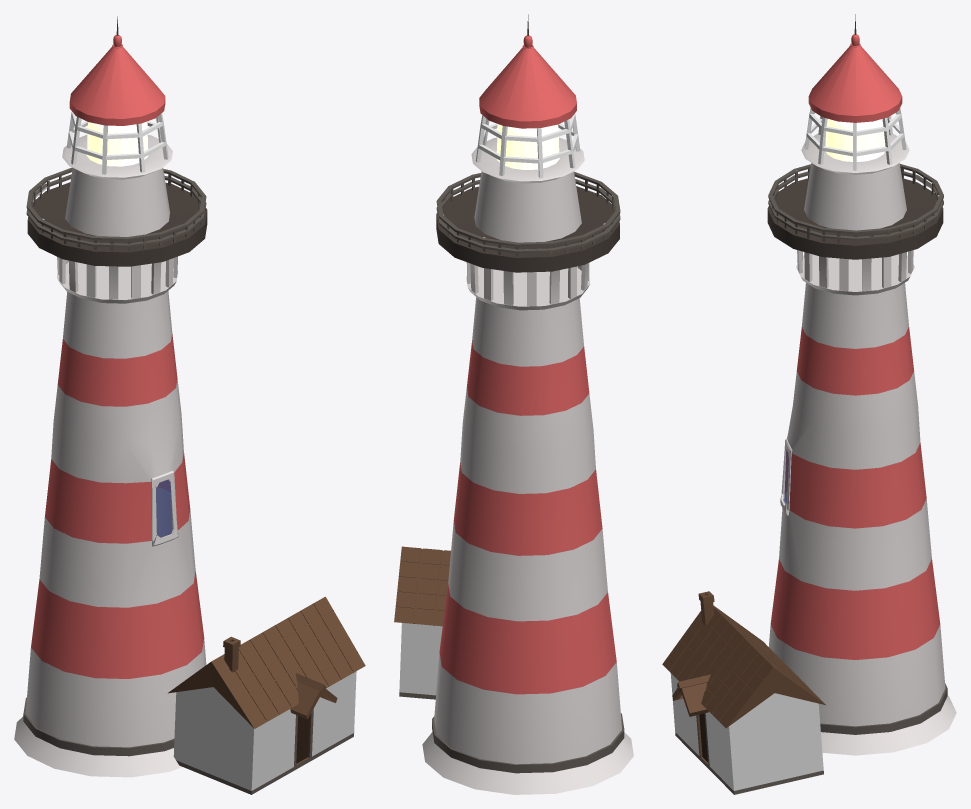
Rendered from lighthouse.glb.
3 views of the same model, side by side, from view 1: azimuth 30°, elevation 25°; view 2: azimuth 150°, elevation 25°; view 3: azimuth 270°, elevation 25° (orthographic). The views are drawn at different scales.
Visible parts, largest first — view 1: Circle_Material.002_0, Circle_Material.003_0, Cube_Material.008_0, Cube_Material_0, Circle_Material.004_0, Circle_Material.005_0, Circle.002__0, Circle.001_Light_0, Circle_Material.001_0; view 2: Circle_Material.002_0, Circle_Material.003_0, Circle_Material.004_0, Circle_Material.005_0, Cube_Material.008_0, Cube_Material_0, Circle.002__0, Circle.001_Light_0; view 3: Circle_Material.002_0, Circle_Material.003_0, Cube_Material.008_0, Cube_Material_0, Circle_Material.004_0, Circle_Material.005_0, Circle.002__0, Circle.001_Light_0.
Part boxes in pixels (x1=…): Circle_Material.002_0: x1=14, y1=135, x2=206, y2=777; Circle_Material.003_0: x1=31, y1=35, x2=204, y2=678; Cube_Material.008_0: x1=168, y1=596, x2=365, y2=766; Cube_Material_0: x1=173, y1=671, x2=356, y2=790; Circle_Material.004_0: x1=27, y1=16, x2=207, y2=266; Circle_Material.005_0: x1=23, y1=167, x2=353, y2=794; Circle.002__0: x1=66, y1=111, x2=168, y2=174; Circle.001_Light_0: x1=86, y1=121, x2=148, y2=166; Circle_Material.001_0: x1=156, y1=479, x2=172, y2=537; Circle_Material.002_0: x1=422, y1=137, x2=633, y2=794; Circle_Material.003_0: x1=439, y1=35, x2=616, y2=694; Circle_Material.004_0: x1=436, y1=14, x2=619, y2=272; Circle_Material.005_0: x1=399, y1=171, x2=624, y2=773; Cube_Material.008_0: x1=394, y1=546, x2=450, y2=626; Cube_Material_0: x1=399, y1=623, x2=442, y2=695; Circle.002__0: x1=475, y1=113, x2=580, y2=178; Circle.001_Light_0: x1=496, y1=124, x2=559, y2=169; Circle_Material.002_0: x1=768, y1=134, x2=956, y2=755; Circle_Material.003_0: x1=770, y1=34, x2=940, y2=659; Cube_Material.008_0: x1=662, y1=591, x2=825, y2=778; Cube_Material_0: x1=670, y1=673, x2=823, y2=790; Circle_Material.004_0: x1=767, y1=14, x2=943, y2=259; Circle_Material.005_0: x1=675, y1=164, x2=947, y2=794; Circle.002__0: x1=804, y1=108, x2=906, y2=170; Circle.001_Light_0: x1=825, y1=119, x2=885, y2=161.
Size of the model in its own units: 2.09 by 5.33 by 2.02.
